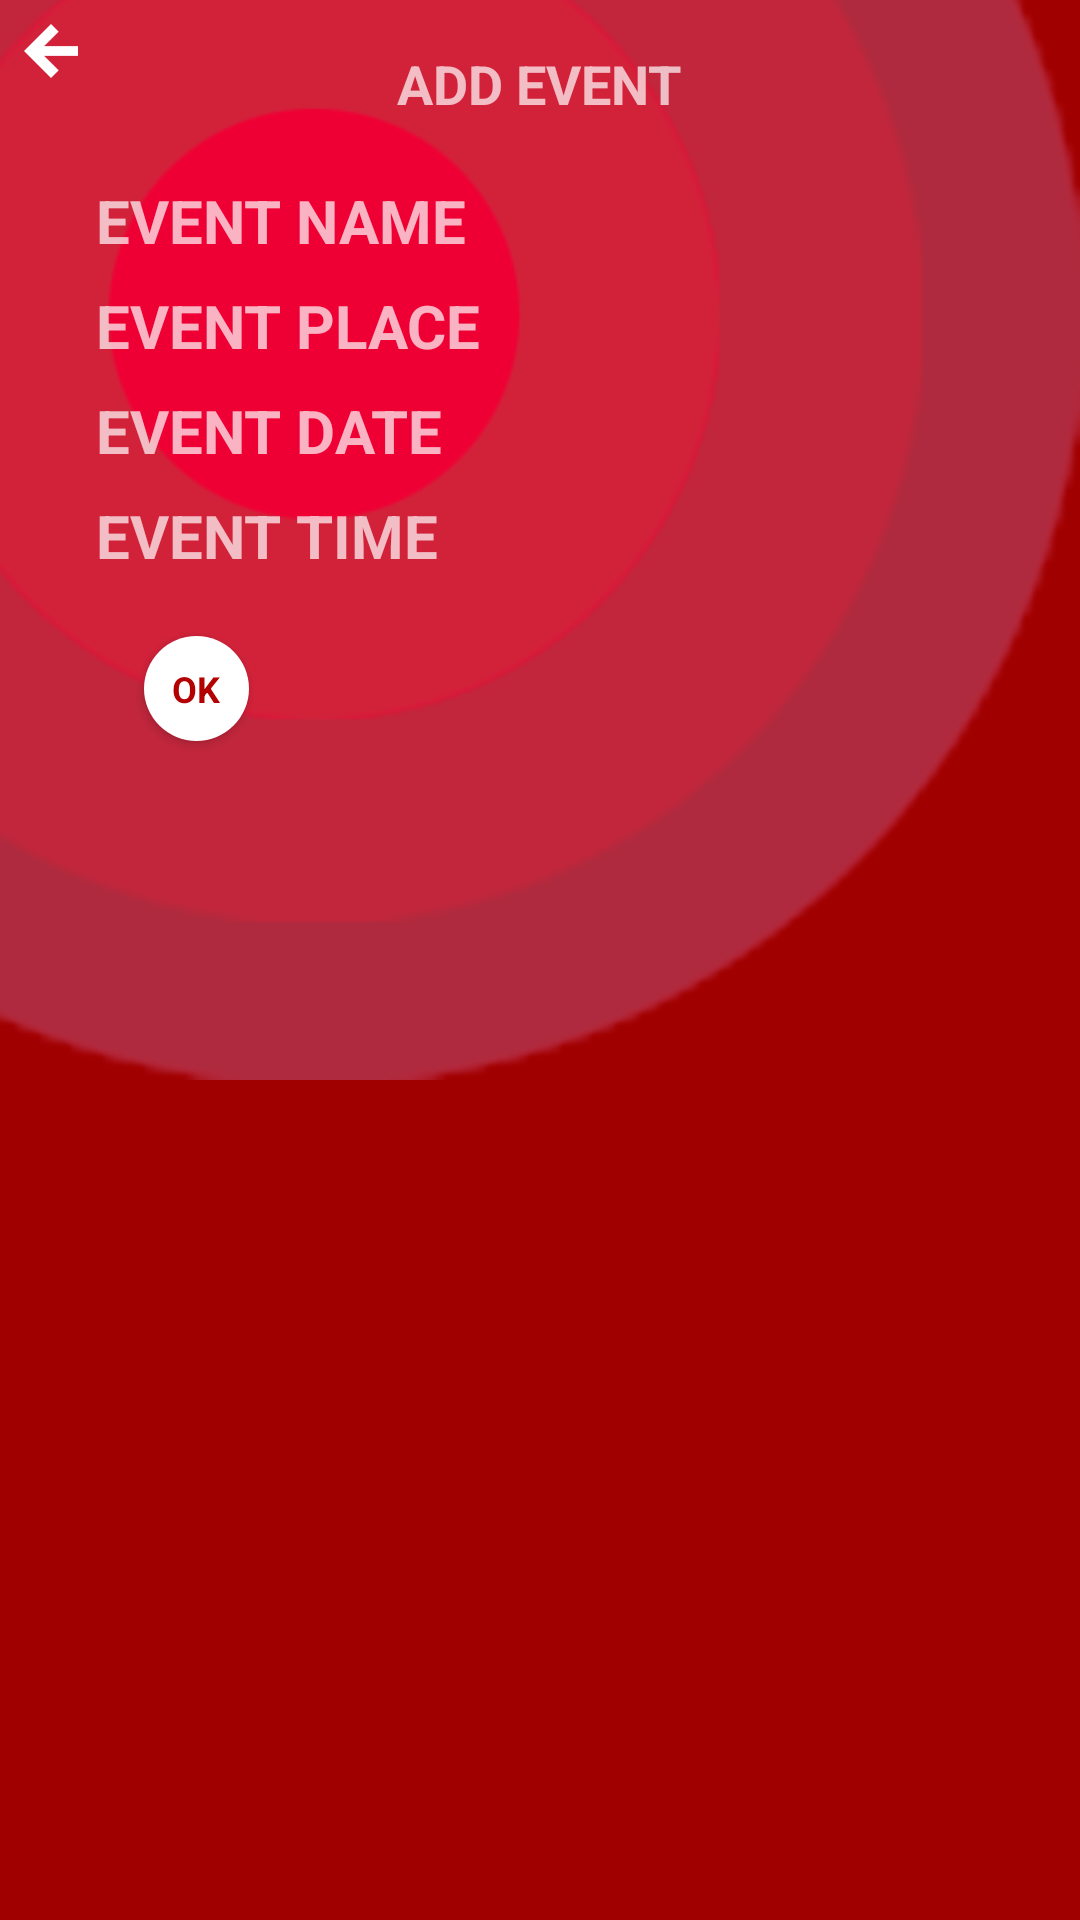

Named icons in this screenshot (1080 x 1920) and their centers, point (x, y):
arrow left: point (51, 51)
